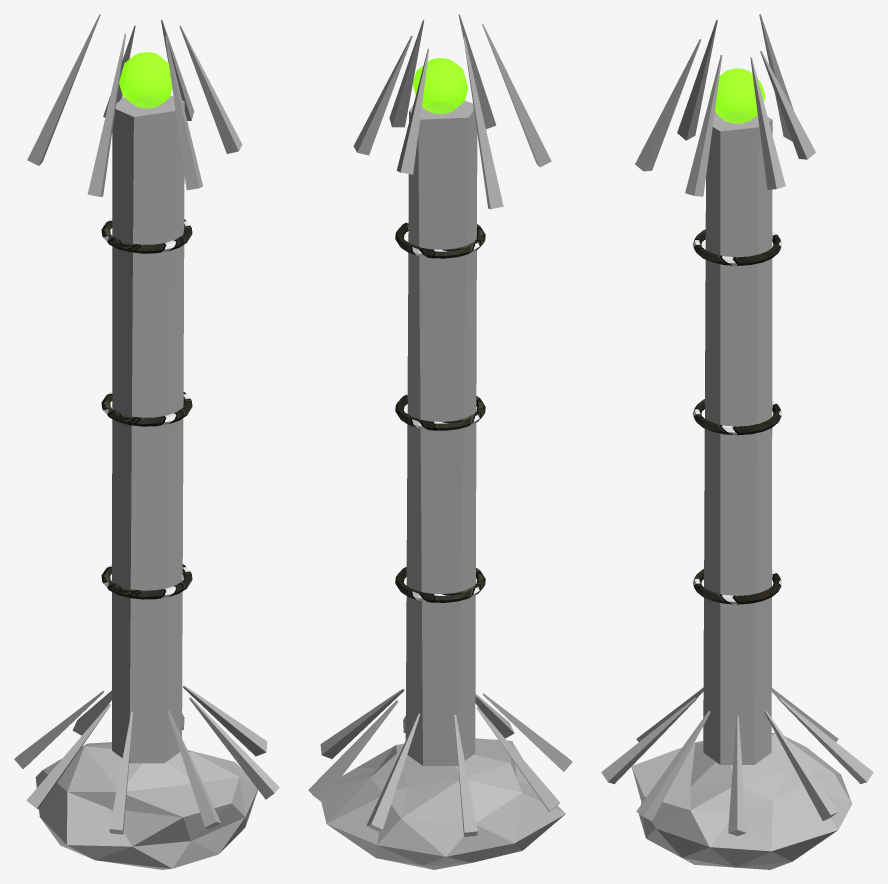
File: verdant_spore_spire.glb
3 renders of one model, left to right at view 1: azimuth 30°, elevation 25°; view 2: azimuth 150°, elevation 25°; view 3: azimuth 270°, elevation 25°, orthographic. The views are drawn at different scales.
Visible parts, largest first — view 1: VerdantSporeSpire; view 2: VerdantSporeSpire; view 3: VerdantSporeSpire.
Boxes of the visible parts, box(x1,y1,x2,y2) form: VerdantSporeSpire: box(14, 14, 279, 869); VerdantSporeSpire: box(308, 14, 572, 869); VerdantSporeSpire: box(601, 14, 873, 869).
Bounding box in the file's own units: 1.75 × 5.81 × 1.75.
2 materials, 2 textured.
